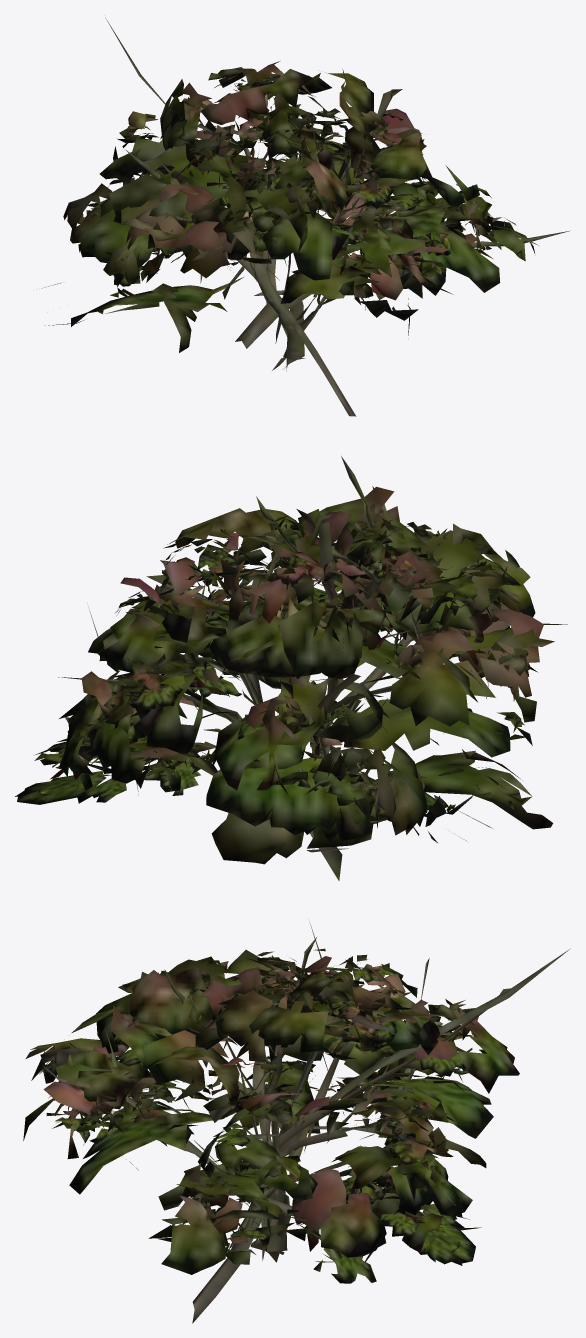
File: tree_11_pink_blossom.glb
3 renders of one model, top to bottom at view 1: azimuth 30°, elevation 25°; view 2: azimuth 150°, elevation 25°; view 3: azimuth 270°, elevation 25°, orthographic. The views are drawn at different scales.
Parts seen in each view (by area): view 1: geometry_0; view 2: geometry_0; view 3: geometry_0.
Boxes of the visible parts, x1,y1,x2,y2 form: geometry_0: (42,17,570,416); geometry_0: (15,456,567,881); geometry_0: (23,922,570,1323).
Bounding box in the file's own units: 1.47 × 1 × 1.41.
1 material, 1 textured.
